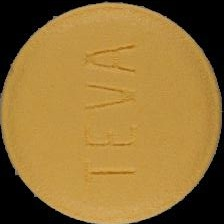54868-4921: (0, 0, 224, 224)
